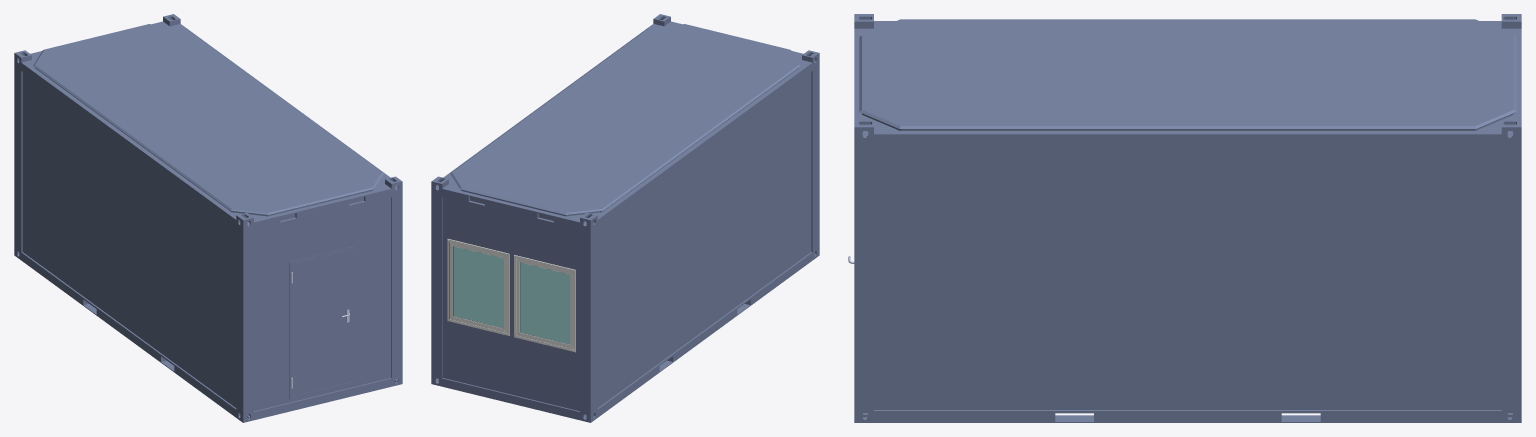
File: Büro stirnseitig HC 2960 BC 2430.obj
3 views of the same model, side by side, from view 1: azimuth 30°, elevation 25°; view 2: azimuth 150°, elevation 25°; view 3: azimuth 270°, elevation 25° (orthographic). The views are drawn at different scales.
Parts seen in each view (by area): view 1: |Test_Bürocontainer~0|Root|Test-Büro2~0-1|color, |Test_Bürocontainer~0|Root|Cont-Tür~0-2|color-2; view 2: |Test_Bürocontainer~0|Root|Test-Büro2~0-1|color, |Test_Bürocontainer~0|Root|Cont-Fenster~0-3|color-4, |Test_Bürocontainer~0|Root|Cont-Fenster~0-1|color-4, |Test_Bürocontainer~0|Root|Cont-Fenster~0-1|color-5, |Test_Bürocontainer~0|Root|Cont-Fenster~0-3|color-5; view 3: |Test_Bürocontainer~0|Root|Test-Büro2~0-1|color.
Boxes of the visible parts, x1,y1,x2,y2 form: |Test_Bürocontainer~0|Root|Test-Büro2~0-1|color: [14, 14, 402, 422]; |Test_Bürocontainer~0|Root|Cont-Tür~0-2|color-2: [289, 246, 354, 399]; |Test_Bürocontainer~0|Root|Test-Büro2~0-1|color: [431, 14, 819, 422]; |Test_Bürocontainer~0|Root|Cont-Fenster~0-3|color-4: [520, 262, 570, 344]; |Test_Bürocontainer~0|Root|Cont-Fenster~0-1|color-4: [453, 246, 503, 328]; |Test_Bürocontainer~0|Root|Cont-Fenster~0-1|color-5: [447, 239, 509, 335]; |Test_Bürocontainer~0|Root|Cont-Fenster~0-3|color-5: [514, 255, 575, 352]; |Test_Bürocontainer~0|Root|Test-Büro2~0-1|color: [854, 14, 1521, 422].
Size of the model in its own units: 2.43 by 2.96 by 6.11.
